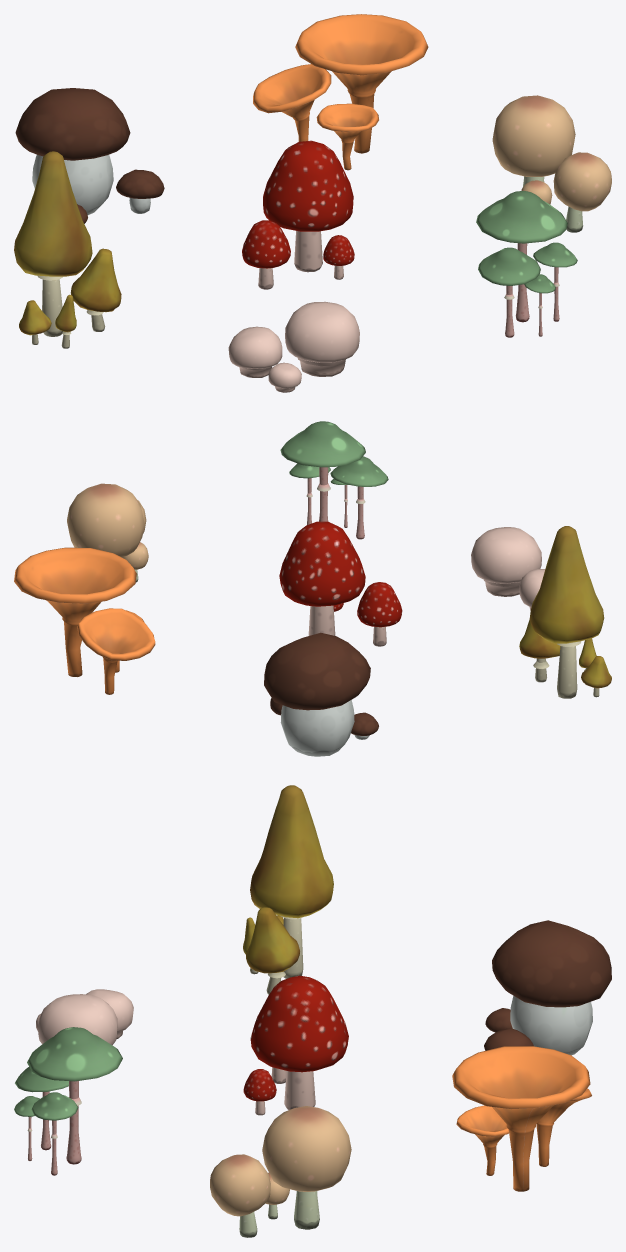
3 renders of one model, top to bottom at view 1: azimuth 30°, elevation 25°; view 2: azimuth 150°, elevation 25°; view 3: azimuth 270°, elevation 25°, orthographic. The views are drawn at different scales.
Parts seen in each view (by area): view 1: 4.001_Cube.002, 2.001_Plane.001, 6.001_Cube.004, 5.001_Cube.001, 3.001_Cube.003, 7.001_Cube.005, 1.001_Cube.006; view 2: 4.001_Cube.002, 5.001_Cube.001, 2.001_Plane.001, 6.001_Cube.004, 7.001_Cube.005, 3.001_Cube.003, 1.001_Cube.006; view 3: 5.001_Cube.001, 4.001_Cube.002, 2.001_Plane.001, 3.001_Cube.003, 6.001_Cube.004, 7.001_Cube.005, 1.001_Cube.006.
Part boxes in pixels (bbox=[...]): 4.001_Cube.002: bbox=[253, 14, 428, 170]; 2.001_Plane.001: bbox=[14, 151, 121, 348]; 6.001_Cube.004: bbox=[242, 140, 354, 289]; 5.001_Cube.001: bbox=[15, 88, 164, 223]; 3.001_Cube.003: bbox=[492, 95, 611, 232]; 7.001_Cube.005: bbox=[476, 191, 577, 337]; 1.001_Cube.006: bbox=[228, 301, 359, 392]; 4.001_Cube.002: bbox=[14, 547, 155, 694]; 5.001_Cube.001: bbox=[264, 632, 378, 756]; 2.001_Plane.001: bbox=[519, 526, 611, 698]; 6.001_Cube.004: bbox=[279, 521, 402, 646]; 7.001_Cube.005: bbox=[280, 421, 388, 539]; 3.001_Cube.003: bbox=[67, 483, 148, 582]; 1.001_Cube.006: bbox=[471, 527, 545, 610]; 5.001_Cube.001: bbox=[484, 920, 611, 1055]; 4.001_Cube.002: bbox=[452, 1046, 591, 1191]; 2.001_Plane.001: bbox=[243, 785, 333, 994]; 3.001_Cube.003: bbox=[210, 1106, 351, 1237]; 6.001_Cube.004: bbox=[243, 975, 348, 1115]; 7.001_Cube.005: bbox=[14, 1027, 122, 1175]; 1.001_Cube.006: bbox=[36, 989, 133, 1045].
Bounding box in the file's own units: 6.67 × 2.06 × 5.8.
